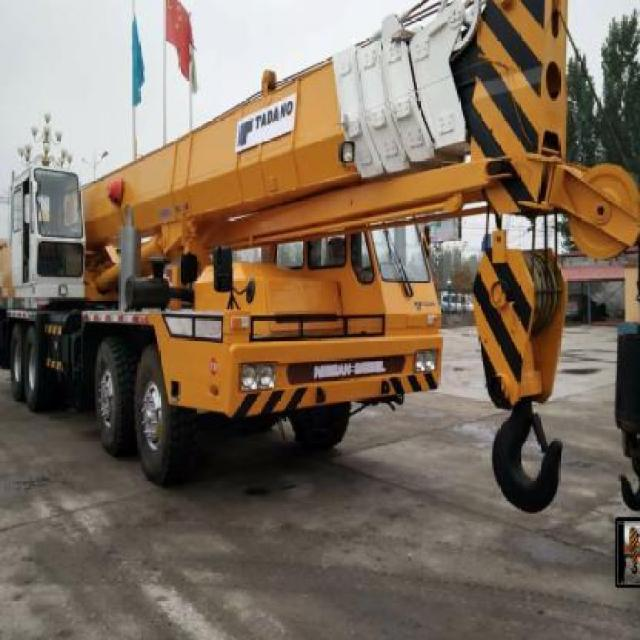Mobile Crane: (0, 0, 632, 517)
